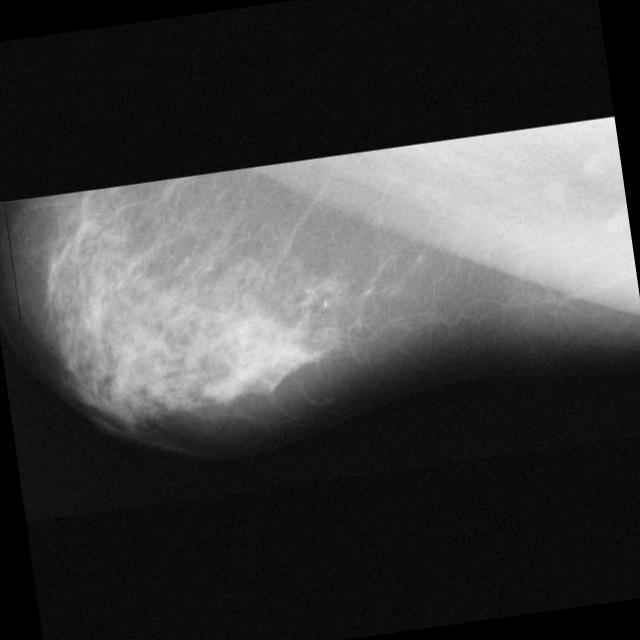CALC: (280, 266, 348, 334)
